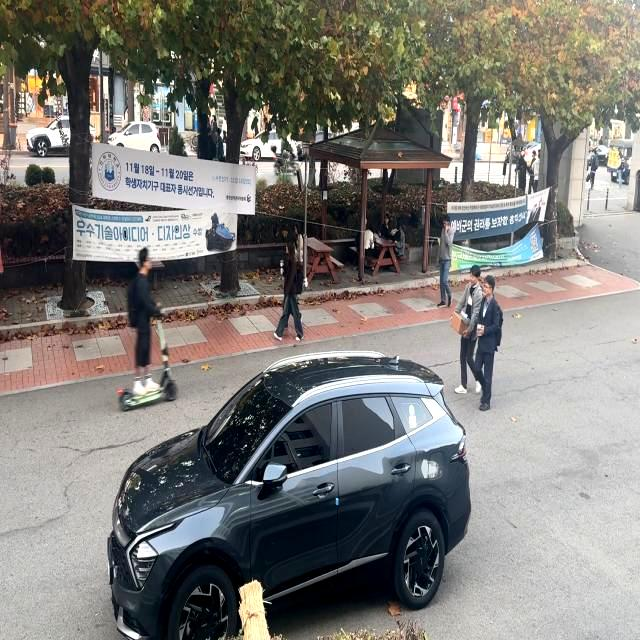bare_head: (132, 241, 162, 276)
human: (121, 237, 162, 391)
kickboard: (104, 381, 200, 419)
